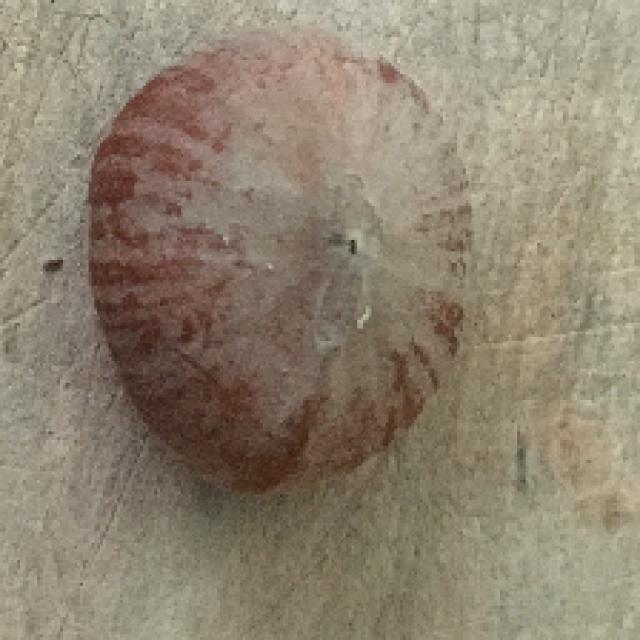qualityHazelnut: (86, 34, 471, 489)
